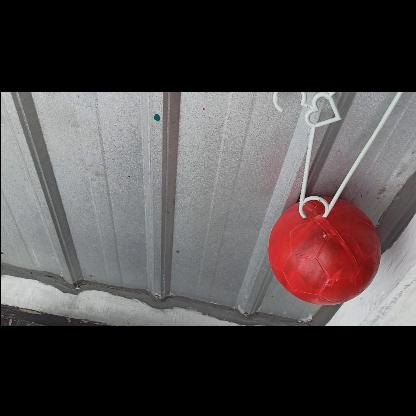red_ball: (266, 195, 378, 306)
